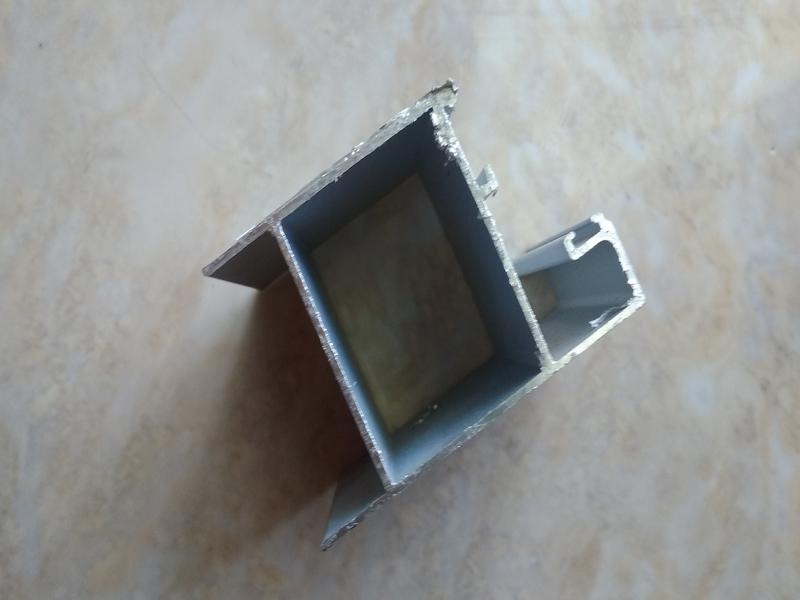Aluminium_2: (138, 55, 664, 567)
